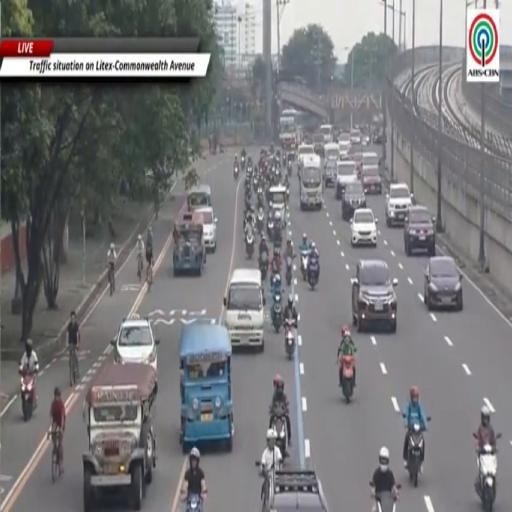bus: (300, 154, 323, 210), (279, 109, 298, 151)
car: (351, 260, 398, 332), (111, 315, 159, 371), (265, 471, 328, 511), (424, 256, 463, 311), (404, 205, 435, 255), (385, 183, 413, 227), (351, 208, 377, 247), (195, 207, 217, 252), (342, 182, 366, 220), (336, 160, 357, 200), (361, 165, 381, 195), (324, 159, 337, 188), (351, 128, 361, 145)
jeepney: (83, 362, 157, 511), (180, 324, 233, 453), (173, 212, 205, 276), (268, 185, 287, 227), (187, 184, 212, 211)
motorcycle: (476, 444, 497, 511), (255, 461, 280, 510), (407, 422, 424, 487), (271, 408, 288, 457), (21, 372, 36, 422), (339, 356, 354, 403), (271, 272, 282, 332), (375, 491, 397, 511), (271, 293, 282, 332), (285, 318, 295, 359), (308, 256, 319, 290), (271, 221, 282, 248), (186, 494, 202, 511), (259, 251, 268, 281), (246, 230, 254, 259), (301, 250, 308, 281), (256, 207, 264, 232), (286, 255, 292, 286), (257, 187, 264, 207), (267, 217, 273, 237), (253, 176, 258, 191), (287, 160, 292, 175), (234, 167, 239, 181), (241, 156, 245, 169), (286, 186, 289, 202)
